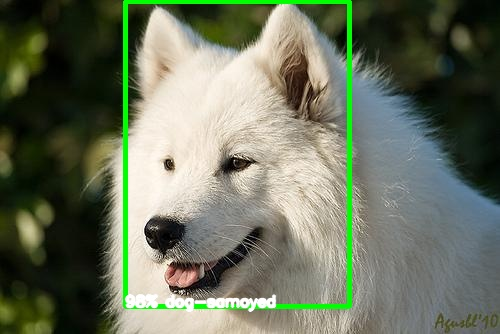dog-samoyed: (136, 1, 344, 304)
